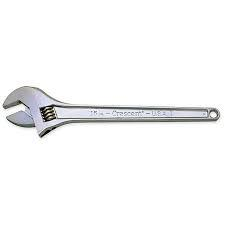wrench: (0, 84, 221, 138)
